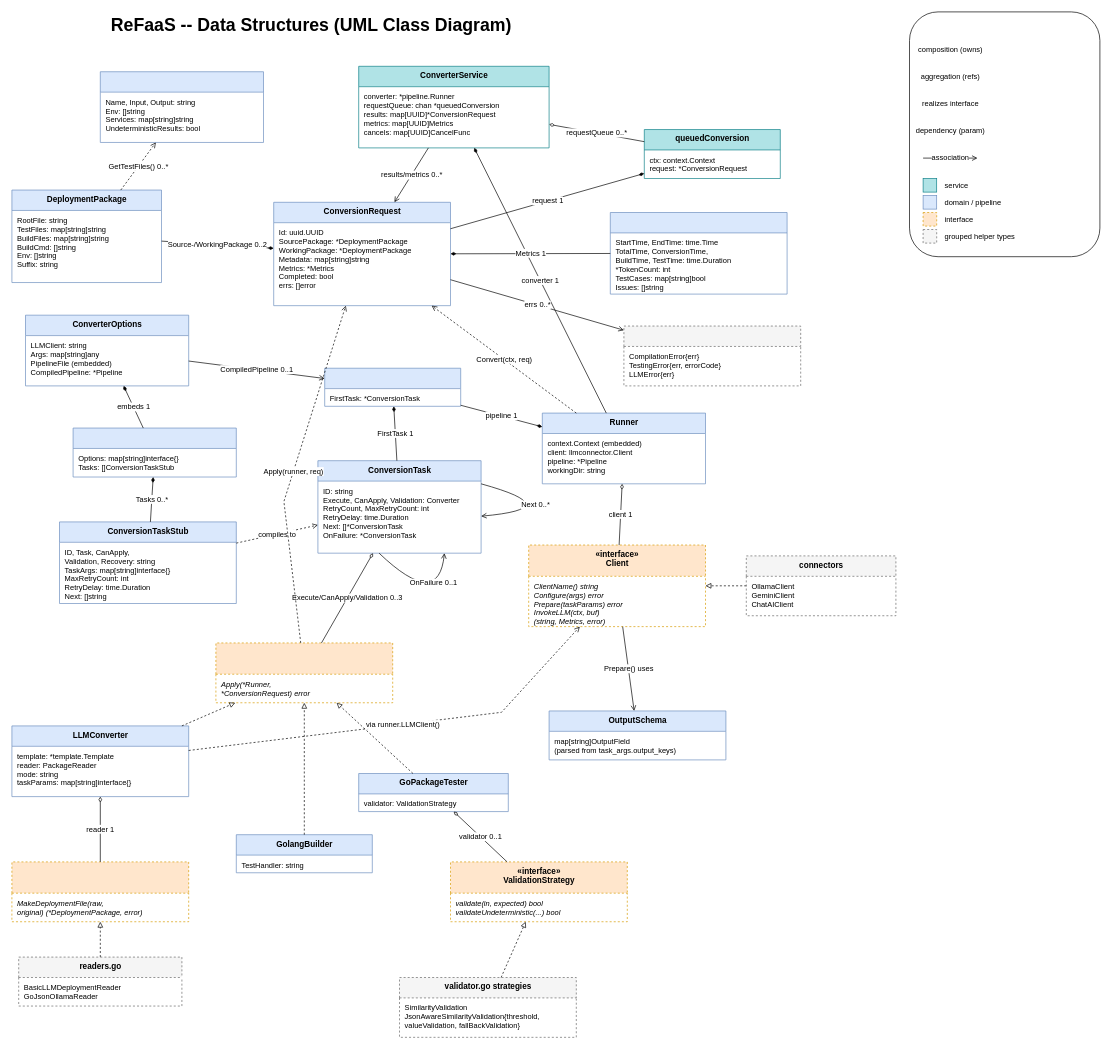
Image size: 1112x1051. Some labels were removed from this diagram. The shapes that lost their labels are listed below. From the top down, each one's box as (x1, y1, x2, y2) in pixels, then its label:
(100, 71, 264, 142): TestFile
(909, 11, 1100, 257): Legend
(610, 212, 787, 294): Metrics
(623, 325, 801, 386): errors.go
(324, 368, 461, 406): Pipeline
(72, 427, 236, 477): PipelineFile
(215, 642, 393, 703): «interface» Converter
(11, 861, 189, 922): «interface» PackageReader
